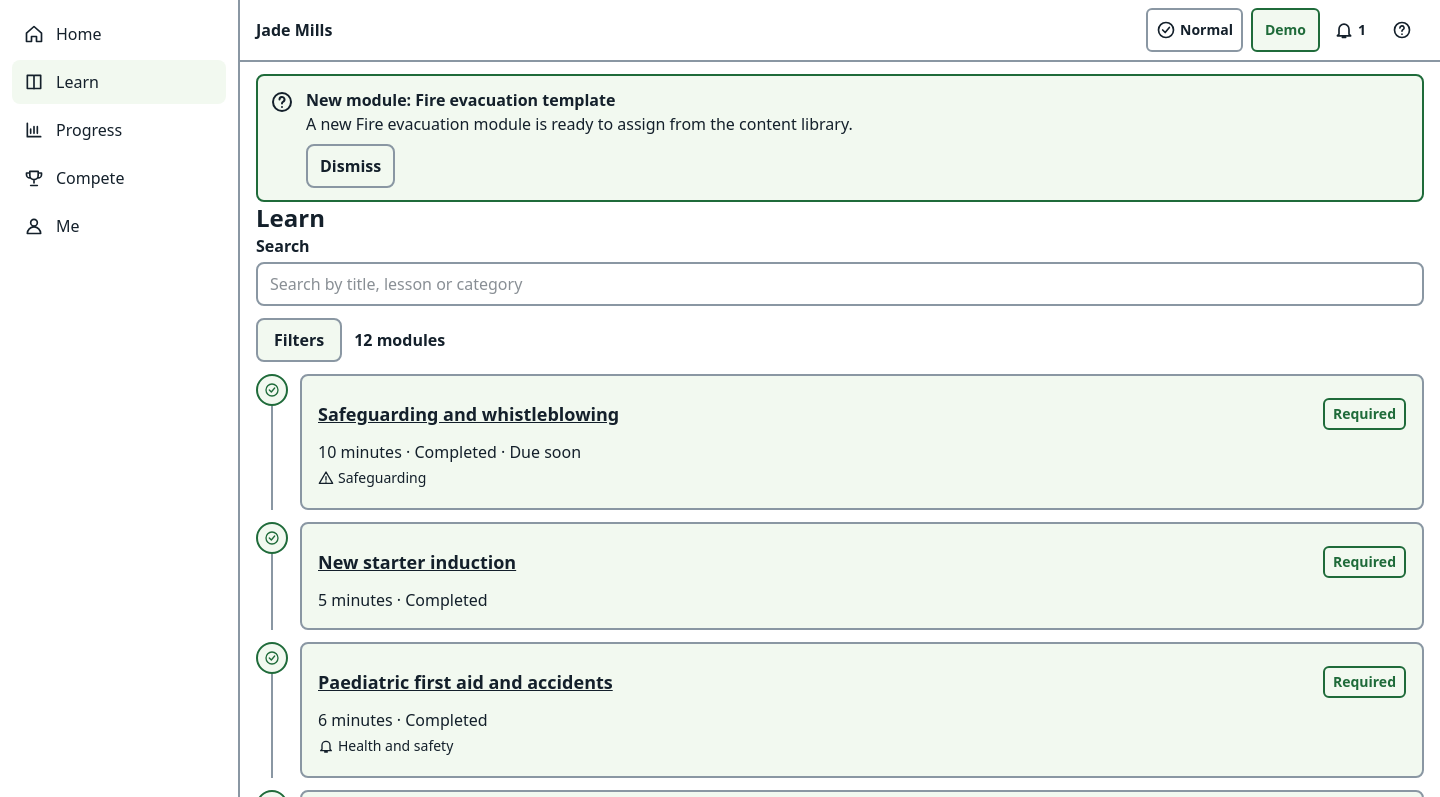
Test case: S3 Learn: search (BP-6) › says so in a friendly way when nothing matches and Clear search brings the list back
Expected: the heading "Learn" is shown, 256,202 -> 325,234
In the search field labelled "Search": (840, 284) 256,262 -> 1424,306, type "zzzz"
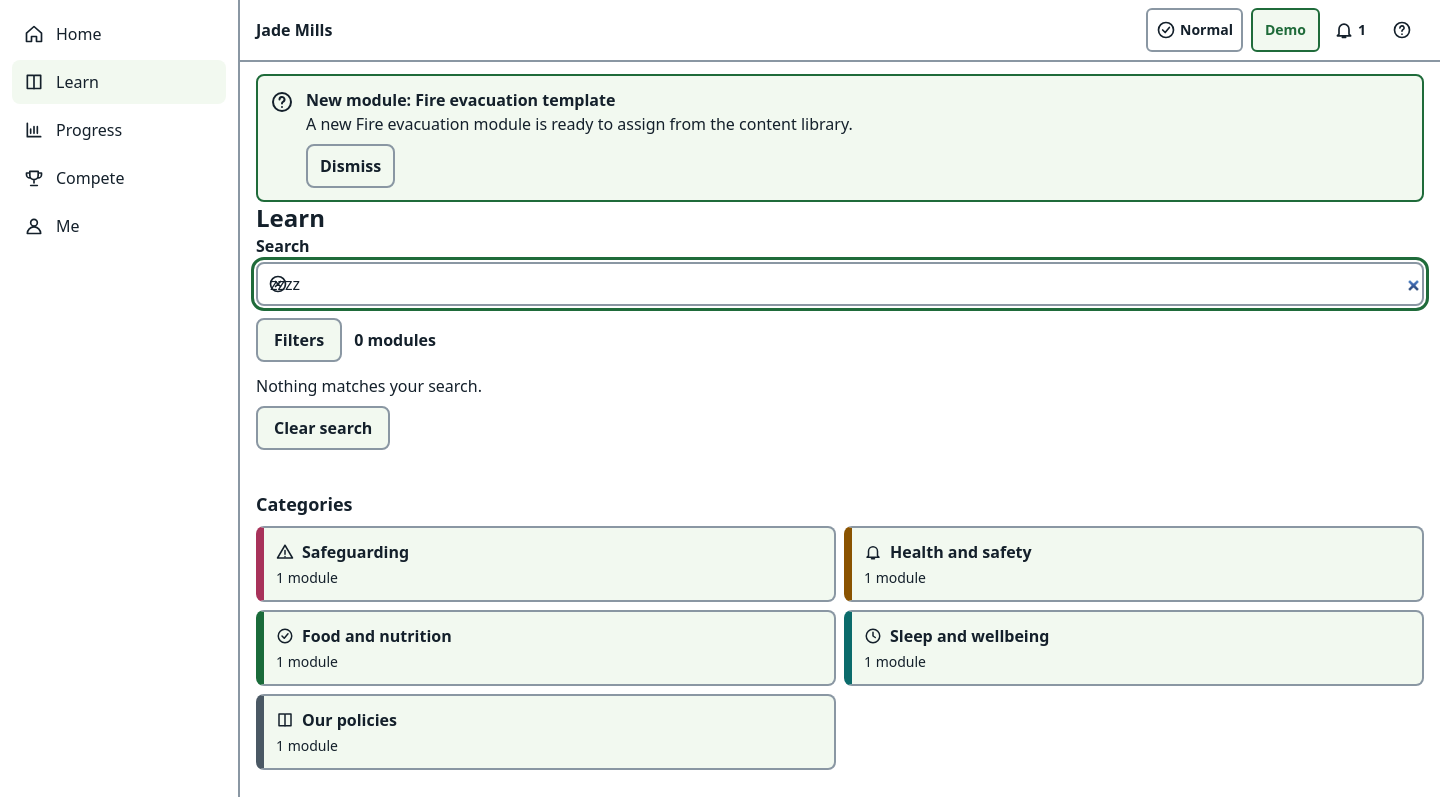
Result: the message reads "Nothing matches your search." at 256,375 -> 482,397
Result: the text with test id "learn-count" reads "0 modules" at 354,329 -> 436,351
Click the button "Clear search": (323, 428) 256,406 -> 390,450
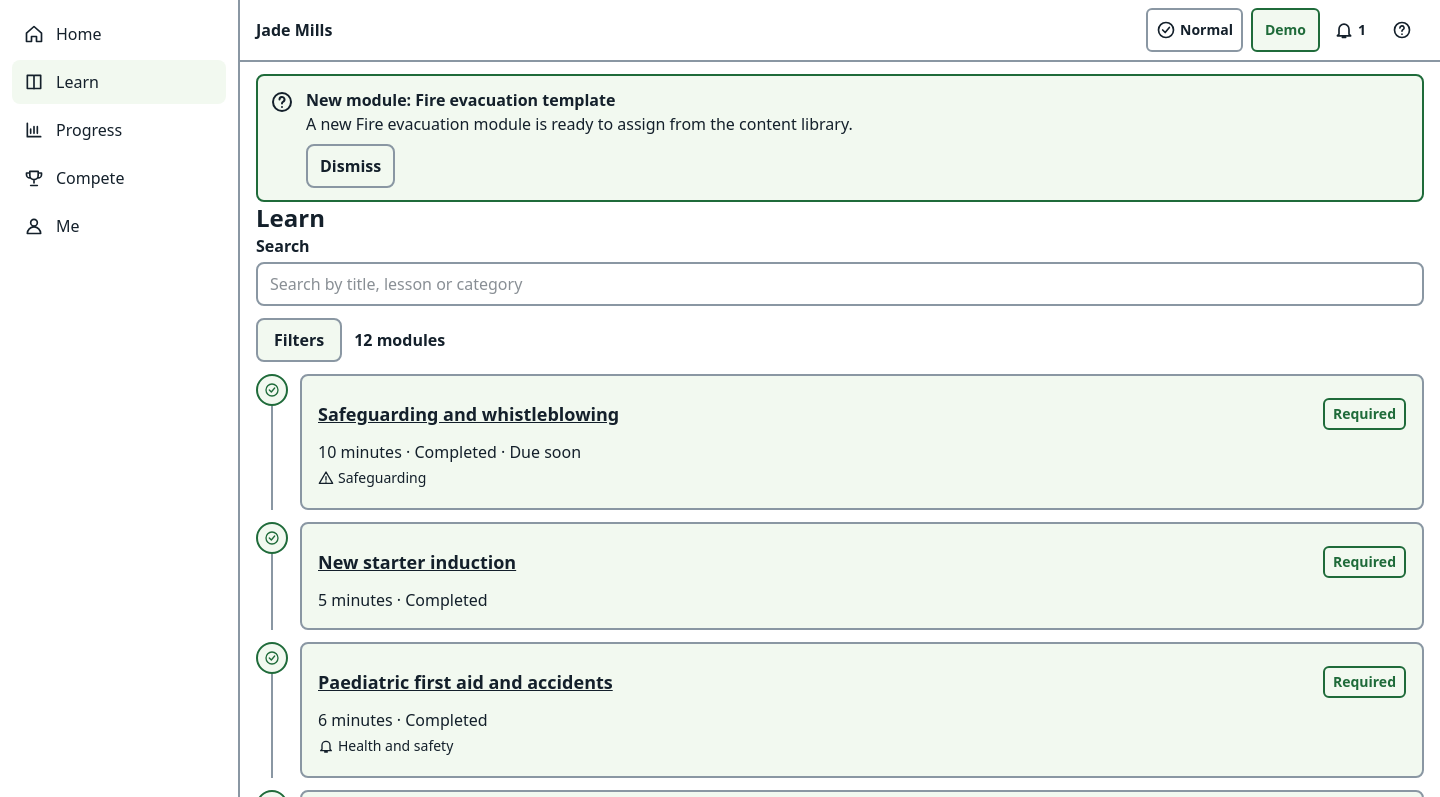
Result: the text with test id "learn-count" reads "12 modules" at 354,329 -> 445,351
Result: the search field labelled "Search" is empty at 256,262 -> 1424,306
